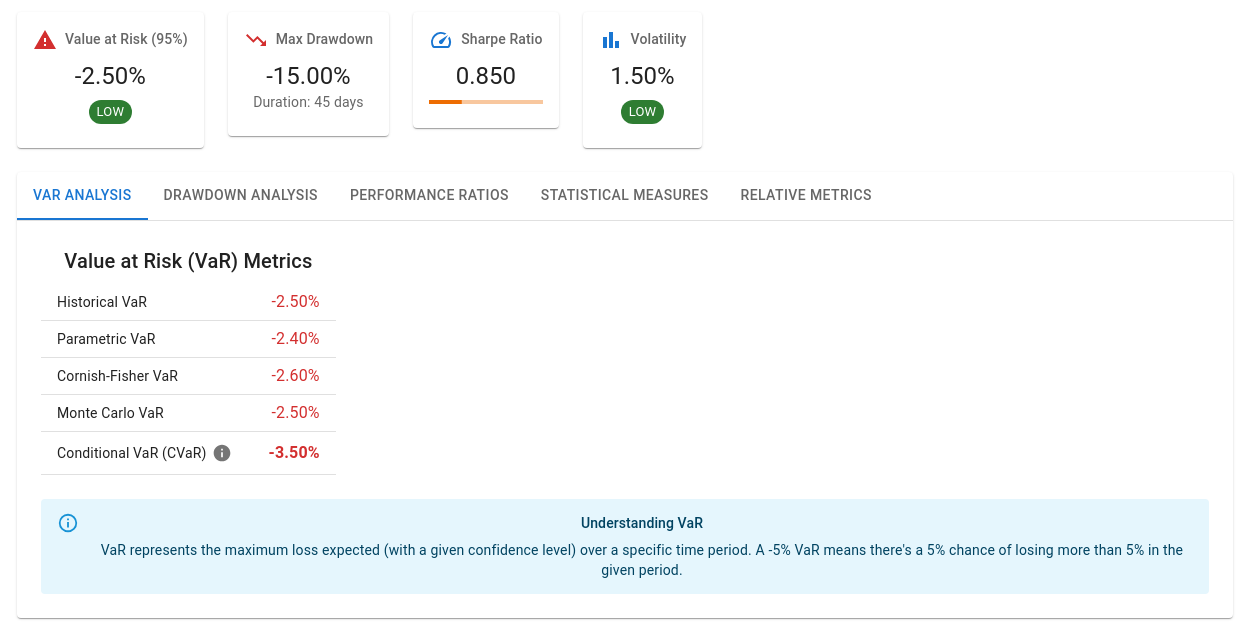
Test case: RiskAnalysis › displays drawdown metrics in drawdown tab
Click the tab "Drawdown Analysis": (241, 196) [148, 172, 334, 220]
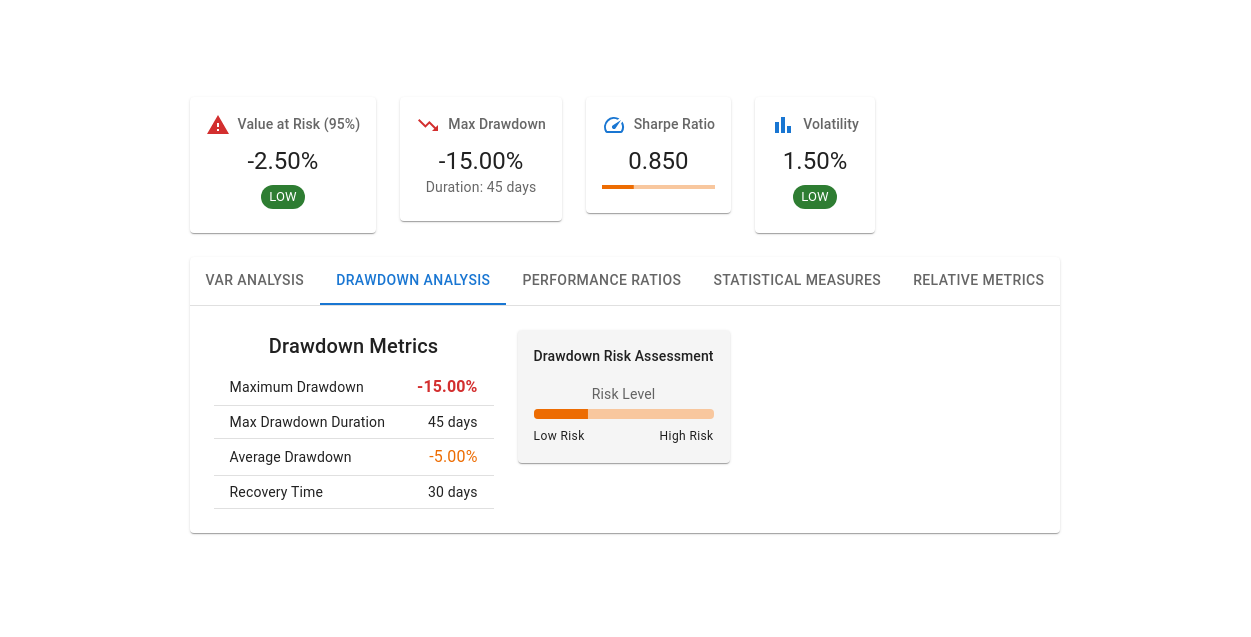
expect the heading "Drawdown Metrics" is shown: met, box [269, 334, 438, 358]
expect the text "Maximum Drawdown" is shown: met, box [214, 369, 401, 406]
expect the text "Max Drawdown Duration" is shown: met, box [214, 406, 401, 438]
